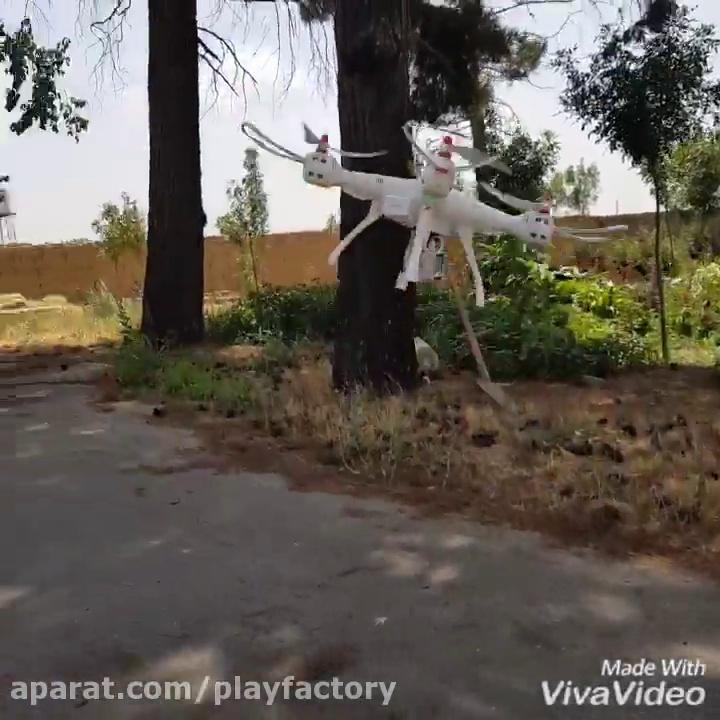drone: (238, 119, 631, 309)
